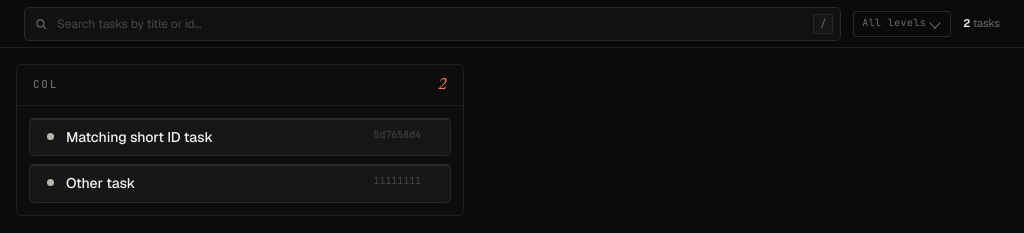
Test: KanbanBoard › search filtering › filters cards by 8-character short task ID
Type "5d7658d4" into the search field labelled "Search tasks by title or id" at [433, 24], box [24,6,841,40]
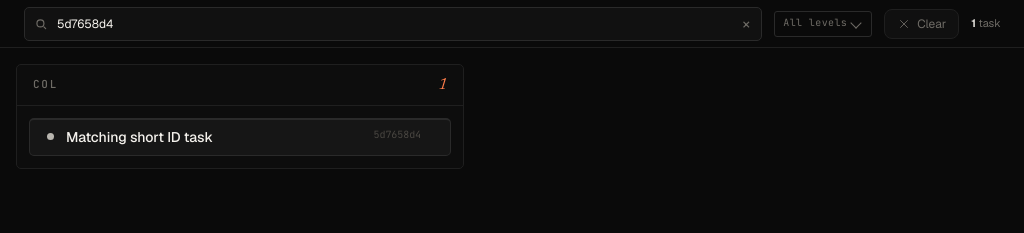
Expected: the heading "Matching short ID task" is shown, [66,128,213,146]
Now the button "Other task" is gone
